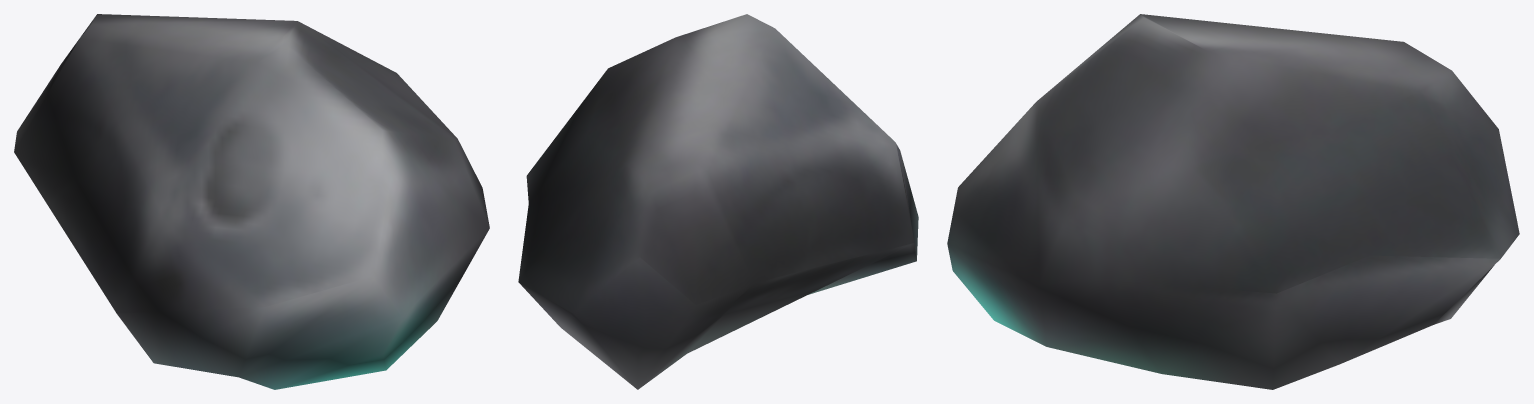
File: particle_Rock02.fbx
The picture shows the model from 3 angles, left to right: view 1: azimuth 30°, elevation 25°; view 2: azimuth 150°, elevation 25°; view 3: azimuth 270°, elevation 25°; orthographic projection. The views are drawn at different scales.
Parts seen in each view (by area): view 1: rock_02; view 2: rock_02; view 3: rock_02.
Part boxes in pixels (x1,y1,x2,y2): rock_02: (14, 14, 489, 389); rock_02: (518, 14, 918, 389); rock_02: (947, 14, 1519, 389).
Size of the model in its own units: 0.2105 by 0.1867 by 0.2813.
